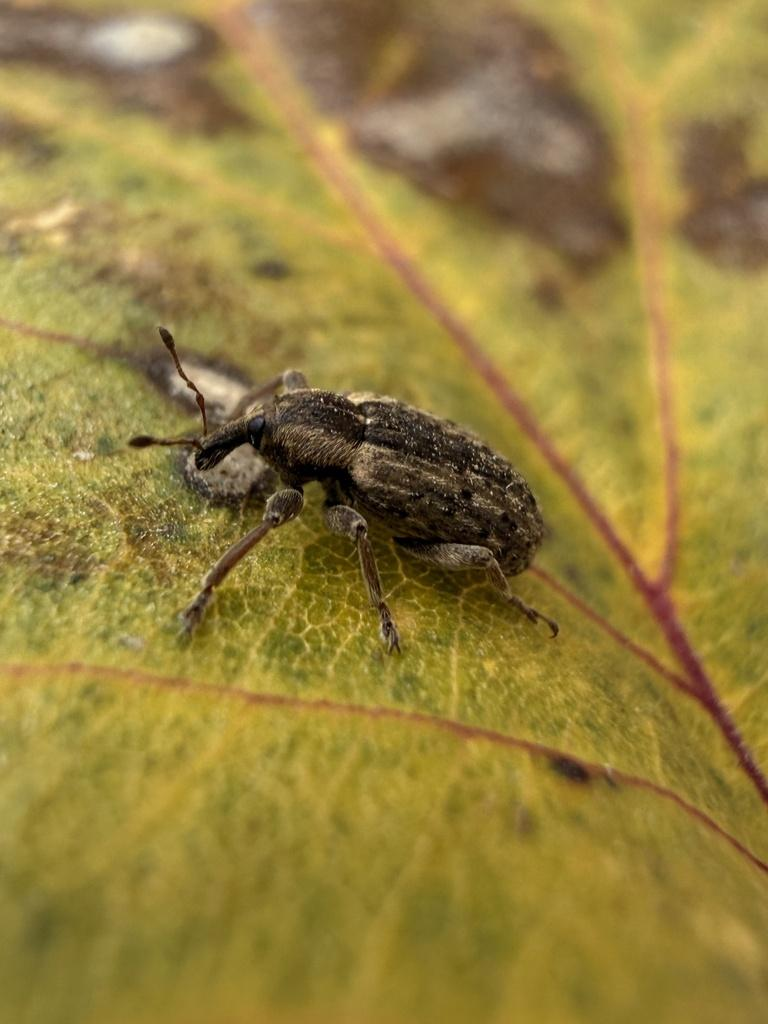weevils: (91, 289, 639, 717)
